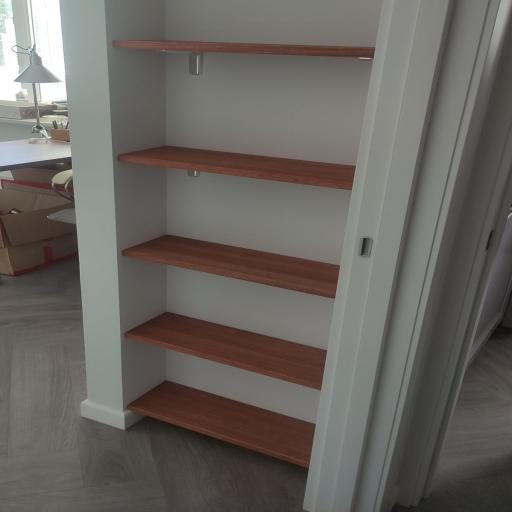road: (99, 7, 388, 481), (128, 382, 314, 467), (126, 313, 326, 389), (123, 236, 339, 298), (118, 146, 354, 189), (114, 40, 374, 58)
stroller: (0, 140, 71, 171)
